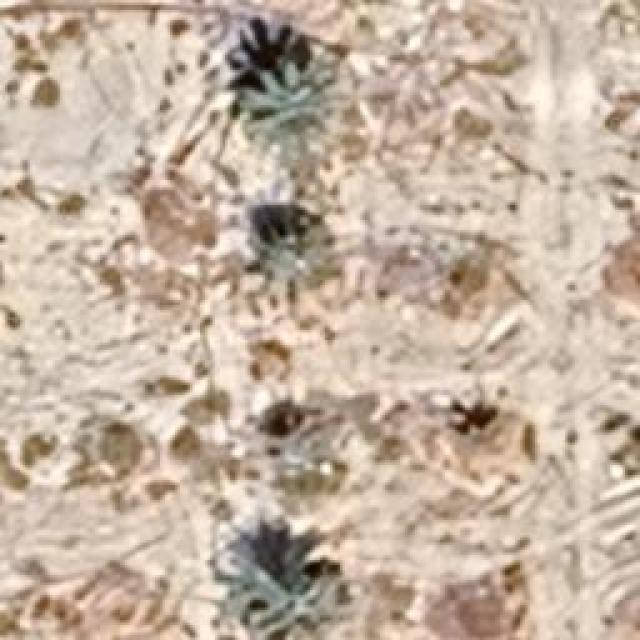PalmTree: (38, 121, 621, 481), (217, 528, 355, 638), (236, 36, 336, 136), (250, 406, 330, 479)
